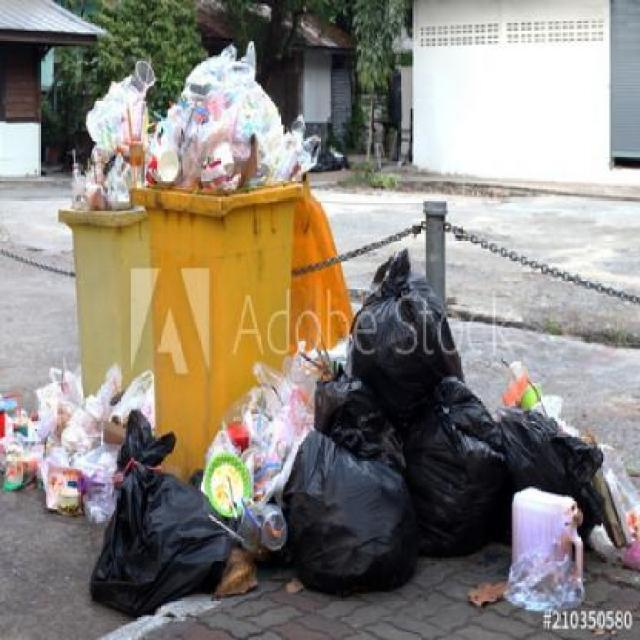garbage: (186, 336, 612, 562), (149, 34, 290, 195), (9, 375, 158, 512), (71, 60, 156, 202)
